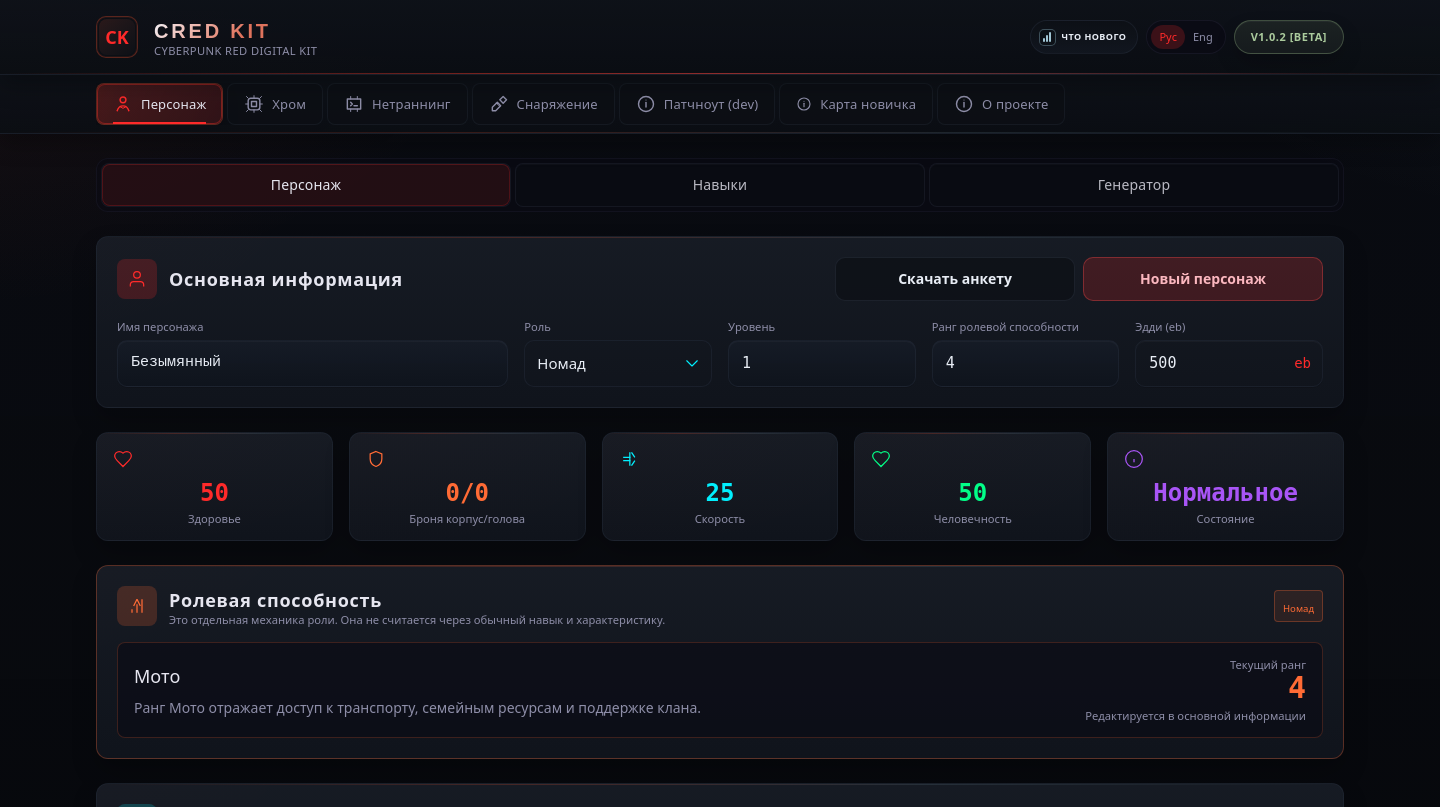
it: App shell component › переключает язык через кнопки RU/EN
Expected: the button with test id "nav-character" reads "Персонаж", [96, 83, 223, 125]
Click the button with test id "lang-en".
click(1203, 37)  # box [1185, 25, 1221, 49]
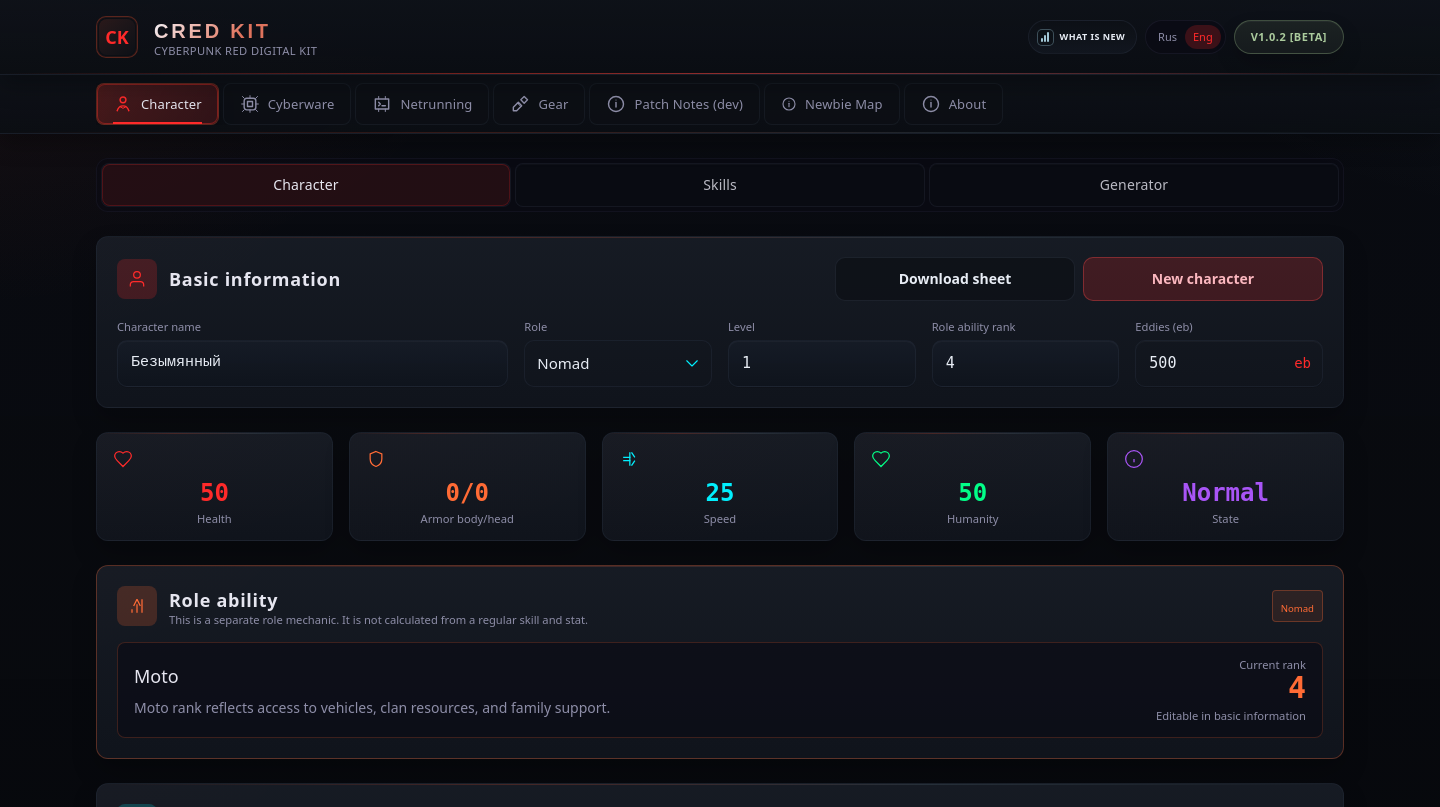
Now the button with test id "nav-character" reads "Character", box [96, 83, 219, 125]
